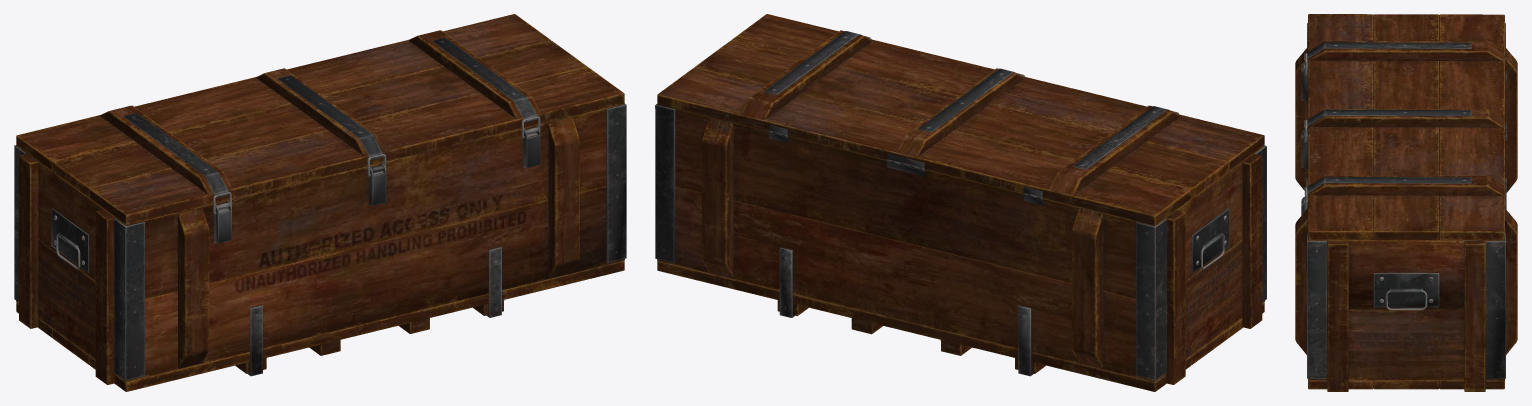
The model's file is mil_crate.glb.
3 renders of one model, left to right at view 1: azimuth 30°, elevation 25°; view 2: azimuth 150°, elevation 25°; view 3: azimuth 270°, elevation 25°, orthographic. The views are drawn at different scales.
Parts seen in each view (by area): view 1: wooden_military_crate; view 2: wooden_military_crate; view 3: wooden_military_crate.
Boxes of the visible parts, box(x1,y1,x2,y2) form: wooden_military_crate: box(14, 14, 626, 391); wooden_military_crate: box(655, 14, 1266, 391); wooden_military_crate: box(1295, 14, 1517, 391).
Bounding box in the file's own units: 1.24 × 0.4647 × 0.5198.
1 material, 1 textured.
